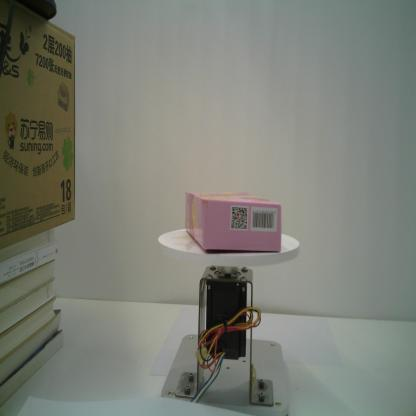Dessert: (185, 191, 282, 252)
